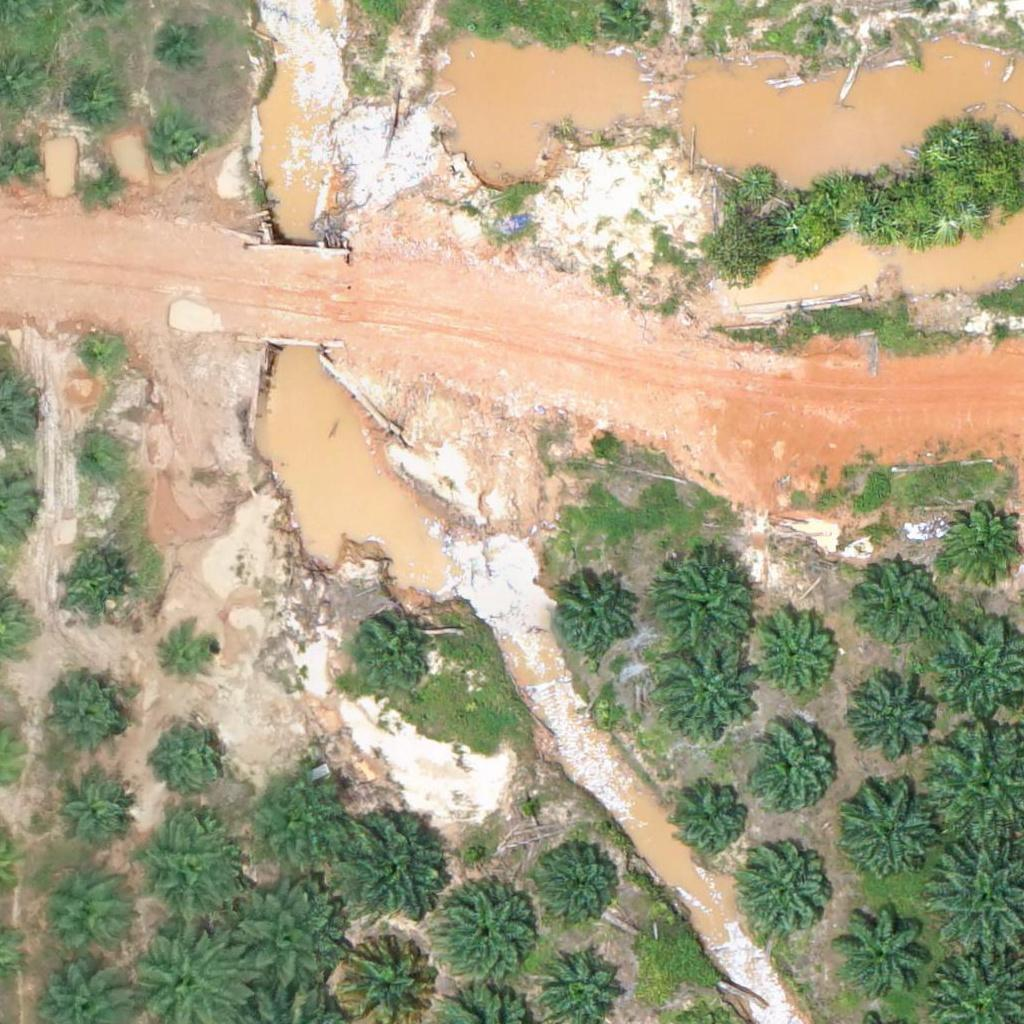Kelapa_Sawit: (329, 800, 454, 926), (218, 880, 343, 1005), (243, 763, 355, 877), (432, 879, 544, 993), (133, 815, 245, 928), (831, 899, 931, 1000), (658, 642, 758, 743), (654, 549, 754, 650), (32, 871, 132, 971), (836, 780, 936, 880), (46, 676, 134, 764), (857, 559, 945, 647), (750, 614, 838, 702), (747, 727, 835, 815), (739, 850, 827, 938), (549, 574, 637, 662), (50, 773, 137, 861), (348, 615, 435, 703), (667, 774, 754, 862), (851, 678, 938, 766), (536, 839, 623, 927), (54, 551, 129, 627), (156, 714, 231, 790), (67, 66, 130, 129), (161, 623, 223, 686), (80, 157, 130, 208), (151, 123, 201, 173), (161, 18, 211, 68), (73, 331, 123, 381), (69, 438, 119, 488), (603, 1, 653, 51), (820, 16, 845, 41)
